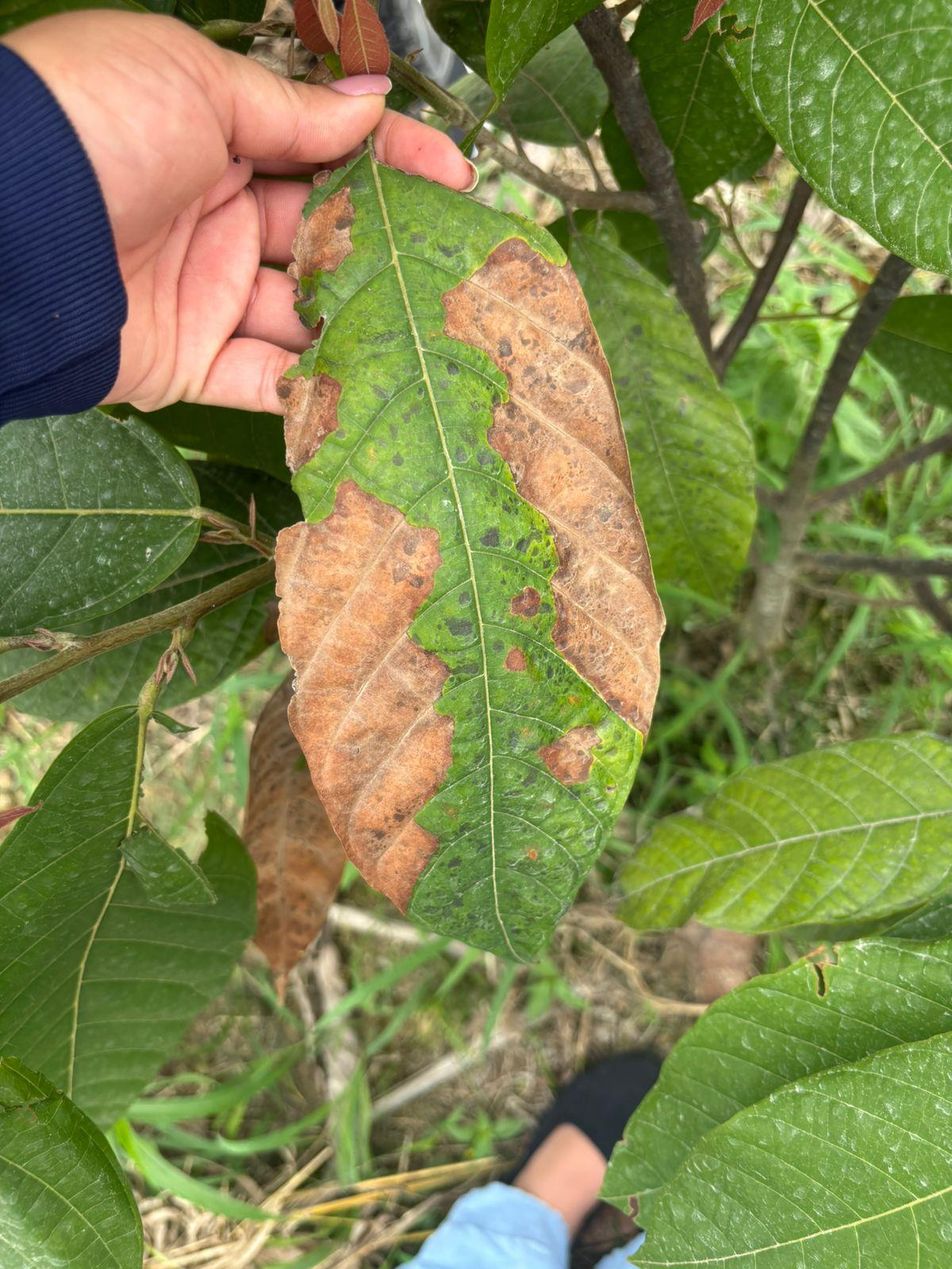deficiencia_potasio: (276, 151, 663, 960)
